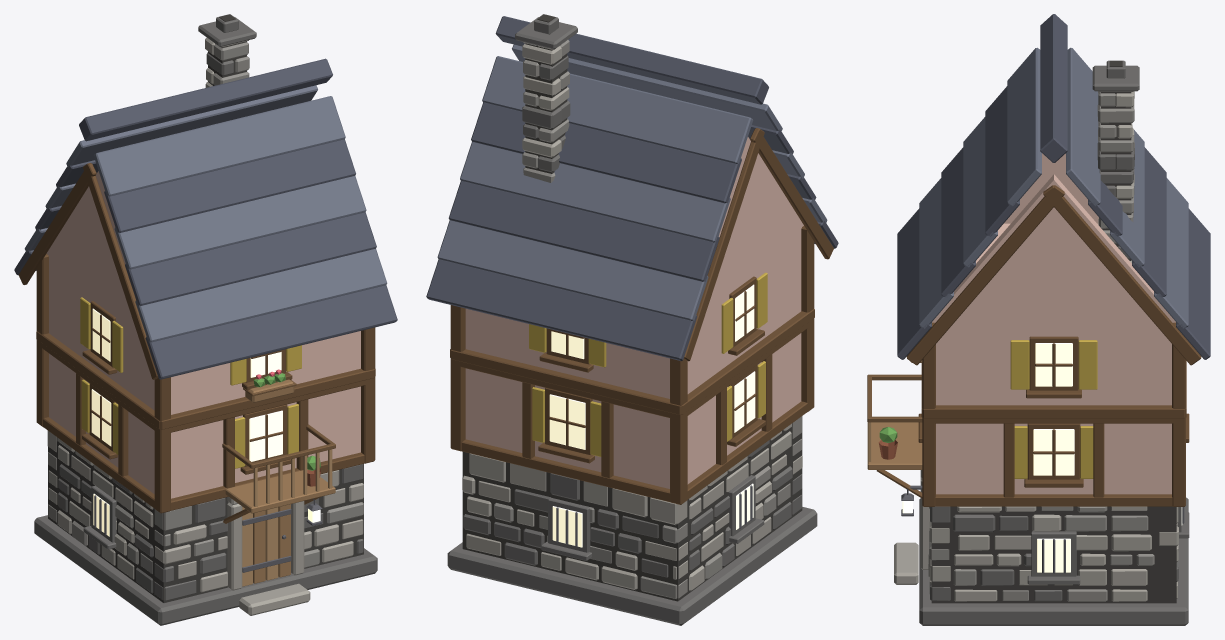
Rendered from house_f.glb.
3 renders of one model, left to right at view 1: azimuth 30°, elevation 25°; view 2: azimuth 150°, elevation 25°; view 3: azimuth 270°, elevation 25°, orthographic. The views are drawn at different scales.
Parts seen in each view (by area): view 1: HouseF; view 2: HouseF; view 3: HouseF.
Boxes of the visible parts, x1,y1,x2,y2 form: HouseF: (14, 14, 397, 625); HouseF: (426, 14, 838, 625); HouseF: (867, 14, 1210, 625).
Size of the model in its own units: 4.3 by 8.52 by 4.97.
